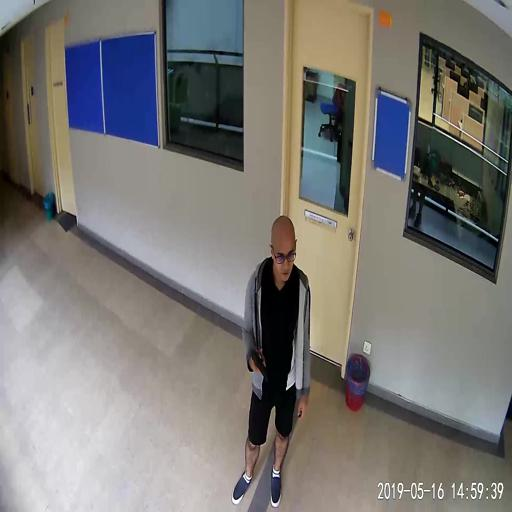pistol: (251, 349, 268, 381)
